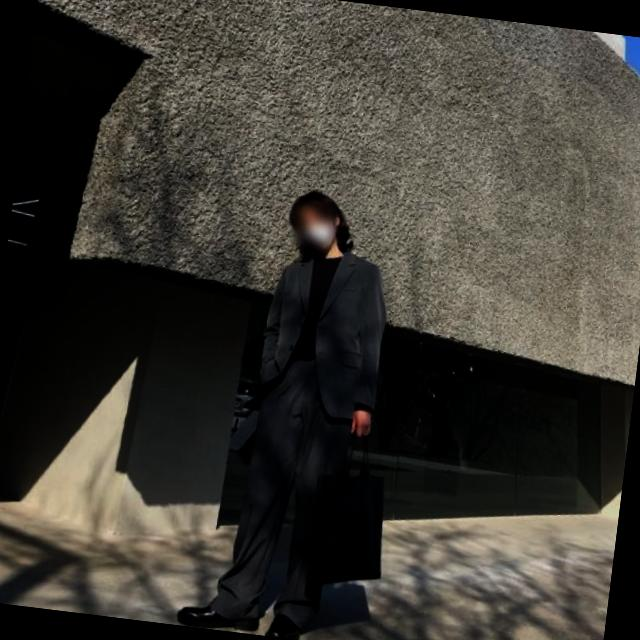blazer: (252, 241, 394, 425)
slacks: (206, 348, 366, 632)
